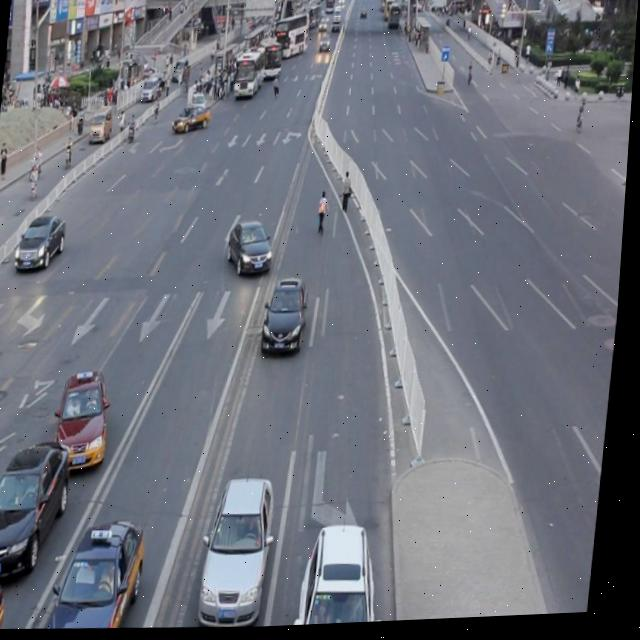car: (200, 472, 285, 631), (51, 513, 155, 632), (0, 434, 79, 581), (303, 519, 394, 628), (59, 367, 119, 474), (261, 275, 314, 359), (16, 213, 71, 275), (227, 218, 279, 280), (0, 575, 16, 630)
